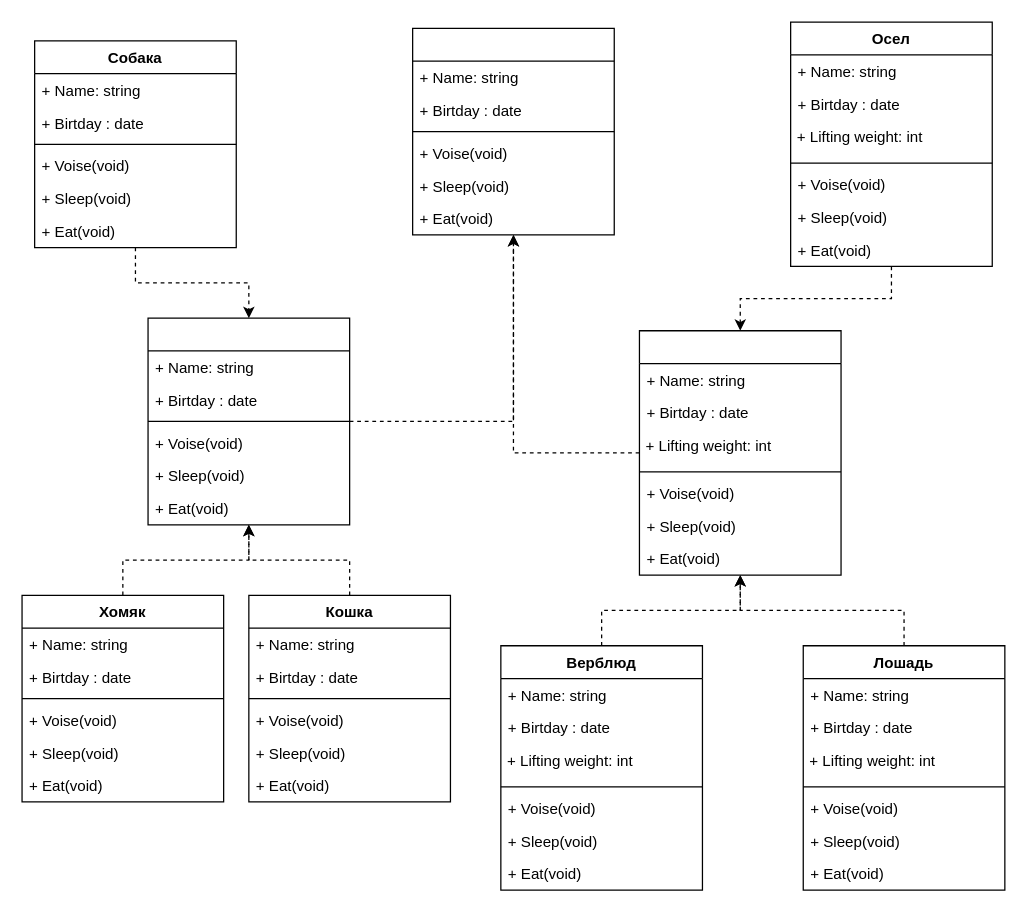
Image size: 1027x916. Some labels were removed from this diagram. The box of each missing label's shape, as (x1, y1, x2, y2) in pixels:
Вьючное животное: (638, 329, 841, 575)
домашнее животное: (147, 317, 350, 525)
Друг-человек: (411, 27, 614, 235)
